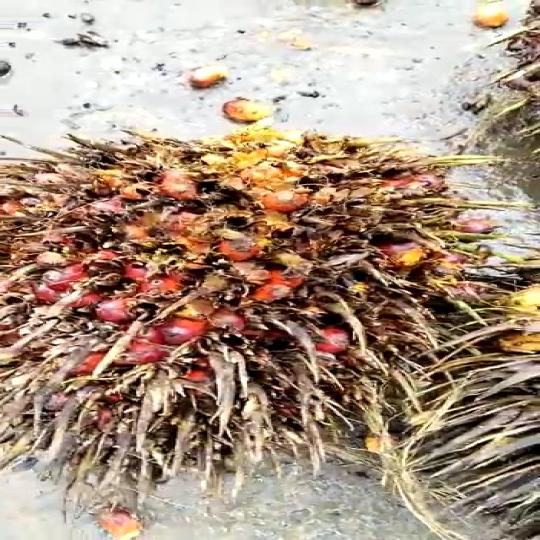terlalu masak: (0, 110, 540, 528)
